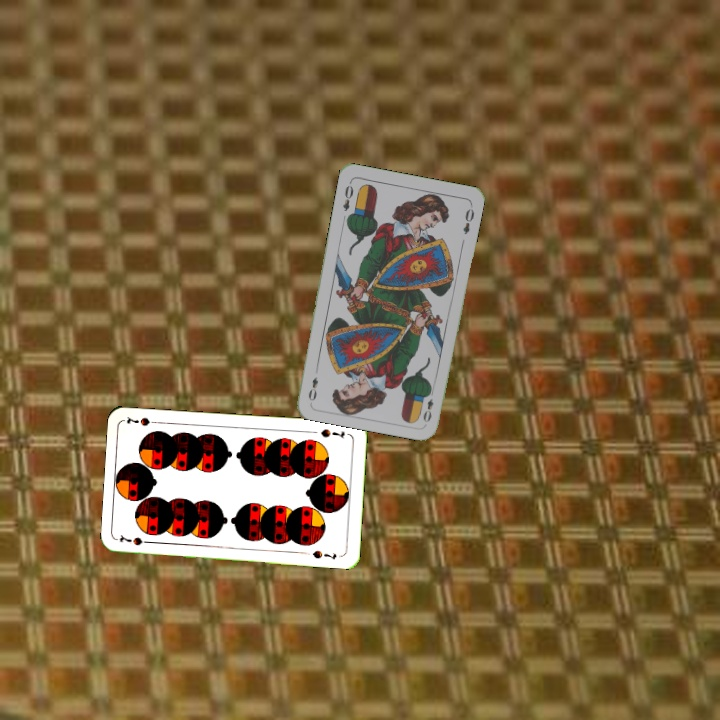EO: (419, 385, 437, 425), (339, 178, 356, 214)
S7: (116, 531, 156, 548), (316, 425, 347, 441)
